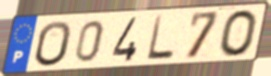0: (74, 18, 107, 65)
4: (111, 15, 140, 63)
7: (186, 11, 222, 61)
L: (144, 14, 176, 62)
O: (218, 8, 260, 59), (33, 19, 74, 68)
